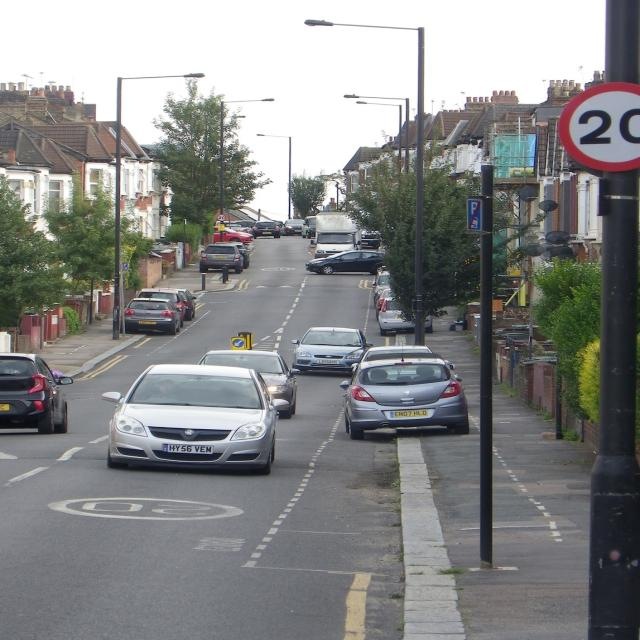forb_speed_over_20: (557, 77, 640, 179)
